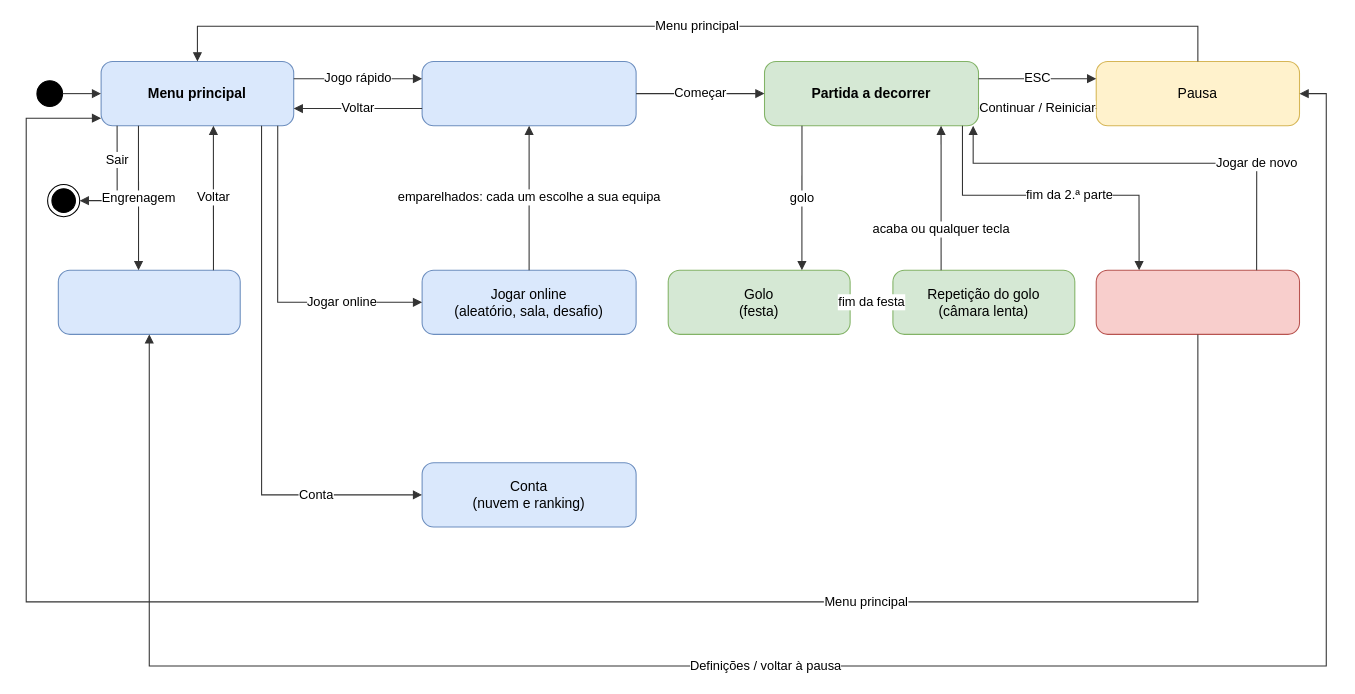
The diagram is 1355 pixels wide and 694 high, and some of its shapes have lost their labels. The shapes that lost their labels are listed below. From the top down, each one's centre as x and y in pixels, then its label:
At point (528, 93): "Seleção de equipas (1 ou 2 jogadores)".
At point (148, 301): "Definições (controlos, som, ecrã)".
At point (1197, 301): "Fim de jogo (resultado final)".
